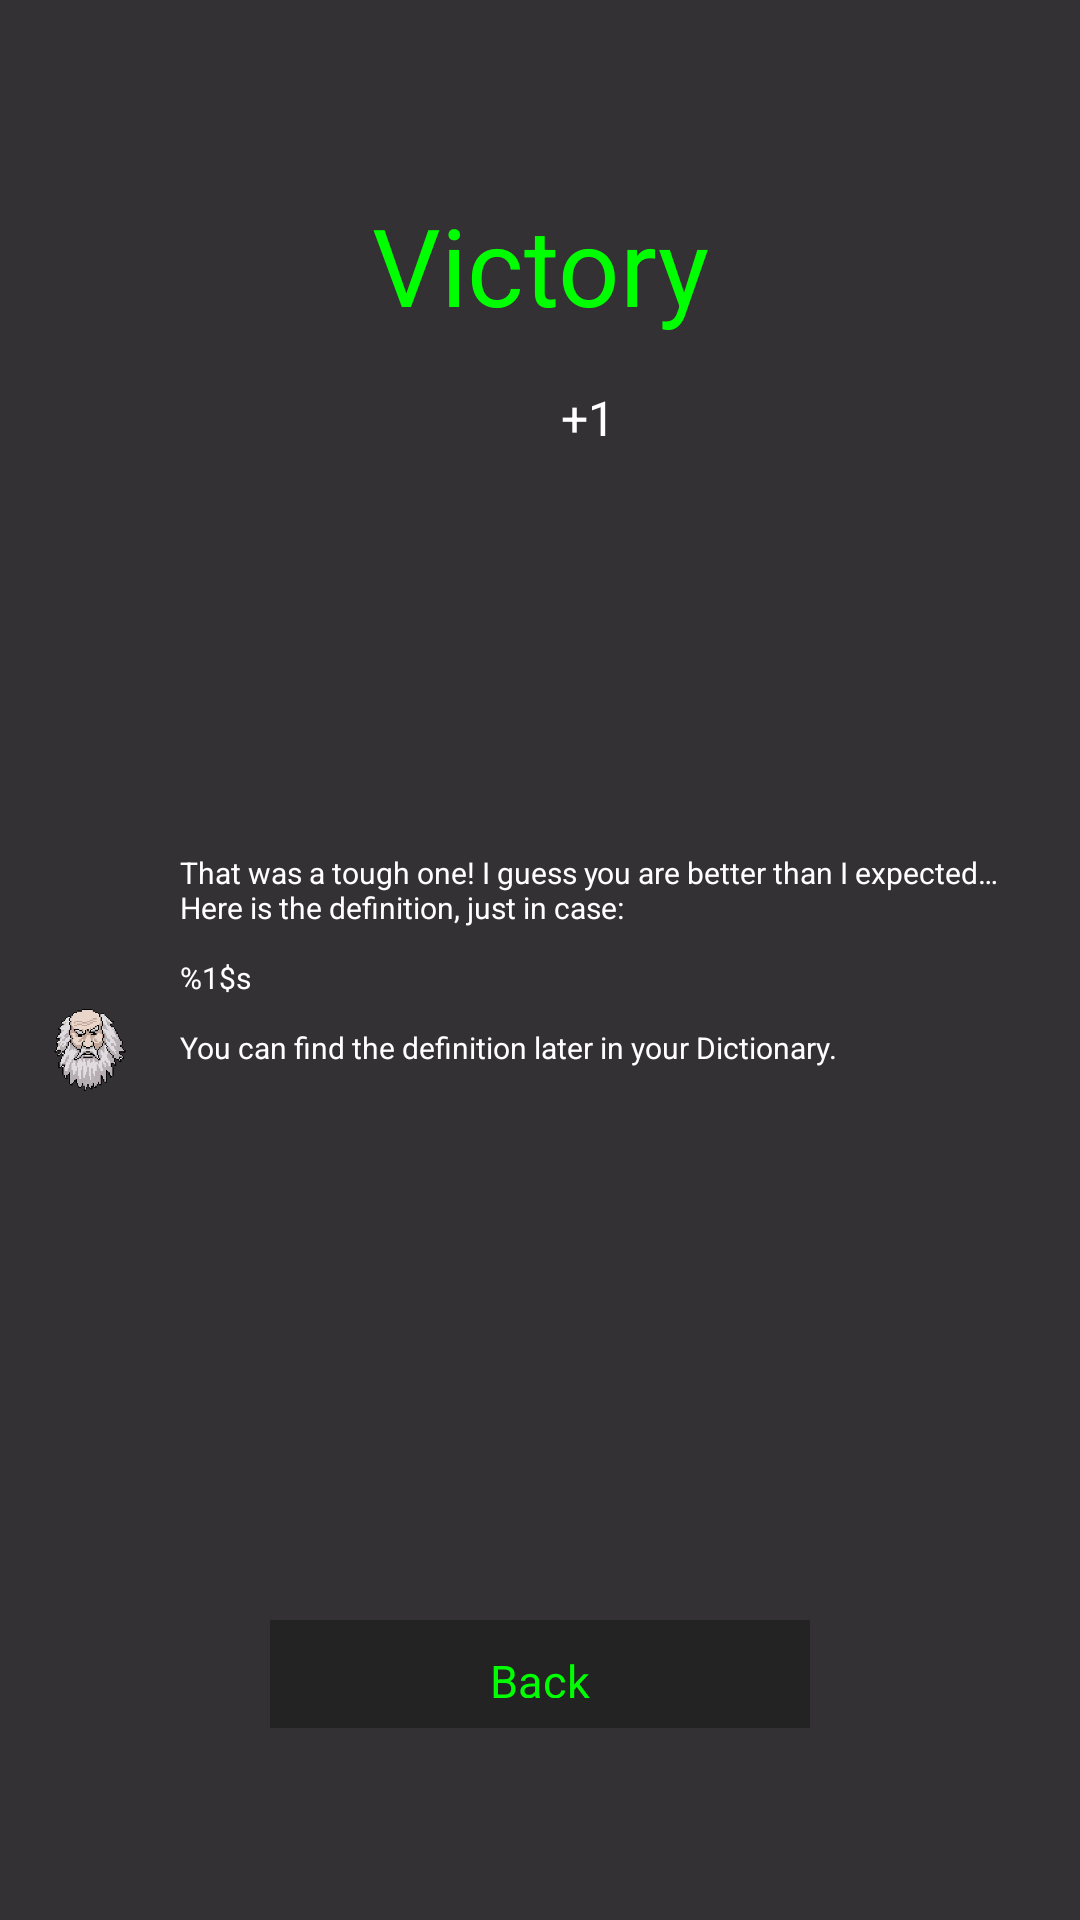

Icons on this 1080x1920 Android screen, each with the point to tap as point (x, y):
oldman: point (90, 1050)
